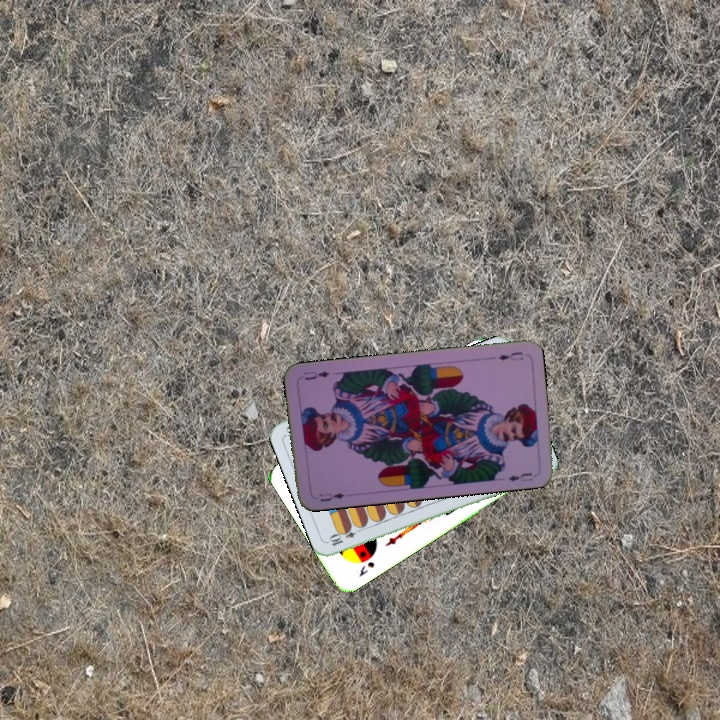E10: (325, 523, 365, 549)
EU: (315, 489, 347, 504), (494, 348, 526, 363)
SK: (355, 557, 377, 579)
